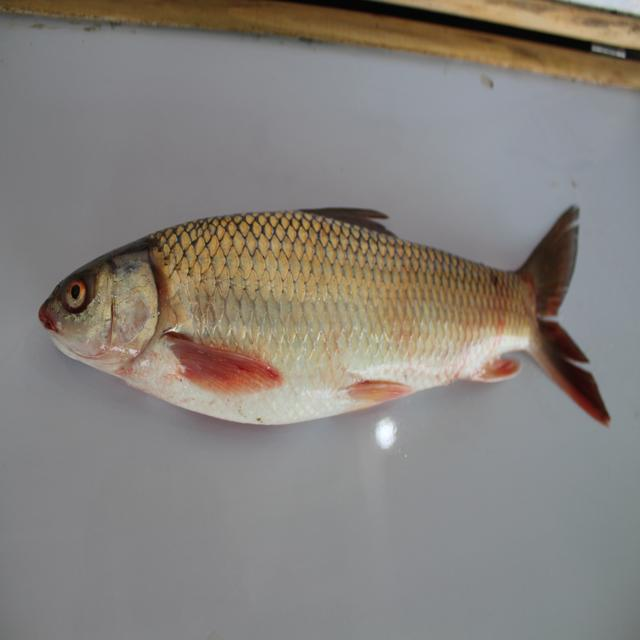Mori: (43, 182, 616, 449)
